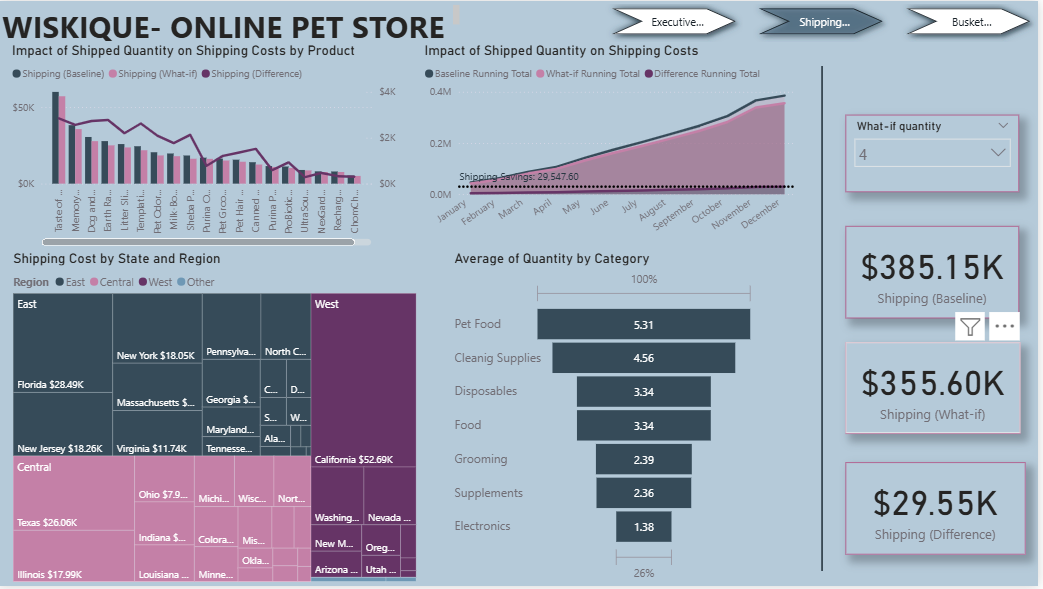

The page's visual inventory and layout, read from the dashboard file:
{"tool":"powerbi","page":{"name":"Shipping Matrix","canvas":[1280,720],"ordinal":5},"visuals":[{"type":"slicer","fields":{"Values":["What-if quantity.What-if quantity"]},"box":[1043,140.5,213.9,95.2],"z":0},{"type":"lineClusteredColumnComboChart","title":"Impact of Shipped Quantity on Shipping Costs by Product","fields":{"Category":["fact_sales.Description"],"Y":["fact_sales.Shipping (Baseline)","fact_sales.Shipping (What-if)"],"Y2":["fact_sales.Shipping Difference"]},"box":[11.9,50.7,482.1,255.2],"z":1000},{"type":"card","fields":{"Values":["fact_sales.Shipping (Baseline)"]},"box":[1043,276.4,213.9,114],"z":2000},{"type":"card","fields":{"Values":["fact_sales.Shipping (What-if)"]},"box":[1043,420,215.5,112.4],"z":3000},{"type":"card","fields":{"Values":["fact_sales.Shipping Difference"]},"box":[1043,568.3,221.7,114],"z":4000},{"type":"areaChart","title":"Impact of Shipped Quantity on Shipping Costs","fields":{"Y":["fact_sales.Baseline Running Total","fact_sales.What-if Running Total","fact_sales.Difference Running Total"],"Category":["fact_sales.Transaction Date.Variation.Date Hierarchy.Year","fact_sales.Transaction Date.Variation.Date Hierarchy.Month"]},"box":[519.4,50.7,467.2,255.2],"z":5000},{"type":"funnel","fields":{"Category":["dim_products.Category"],"Y":["Avg(fact_sales.Quantity)"]},"box":[556.7,306,379.1,413.4],"z":6000},{"type":"treemap","title":"Shipping Cost by State and Region","fields":{"Group":["state_mapping.Region"],"Details":["state_mapping.State"],"Values":["fact_sales.Shipping (Baseline)"]},"box":[13.4,306,506,413.4],"z":7000},{"type":"pageNavigator","box":[0,0,1280,50.5],"z":8000},{"type":"shape","box":[935.3,79.6,157.7,621.4],"z":9000}]}

Visuals, with their boxes in screenshot pixels (x1, y1, x2, y2), scaled from the page's 1280x720 canvas onto the 1043x589 screenshot:
slicer - What-if quantity.What-if quantity: left=850, top=115, right=1024, bottom=193
"Impact of Shipped Quantity on Shipping Costs by Product" lineClusteredColumnComboChart: left=10, top=41, right=403, bottom=250
card - fact_sales.Shipping (Baseline): left=850, top=226, right=1024, bottom=319
card - fact_sales.Shipping (What-if): left=850, top=344, right=1025, bottom=436
card - fact_sales.Shipping Difference: left=850, top=465, right=1031, bottom=558
"Impact of Shipped Quantity on Shipping Costs" areaChart: left=423, top=41, right=804, bottom=250
funnel - dim_products.Category x Avg(fact_sales.Quantity): left=454, top=250, right=763, bottom=588
"Shipping Cost by State and Region" treemap: left=11, top=250, right=423, bottom=588
pageNavigator: left=0, top=0, right=1042, bottom=41
shape: left=762, top=65, right=891, bottom=573
